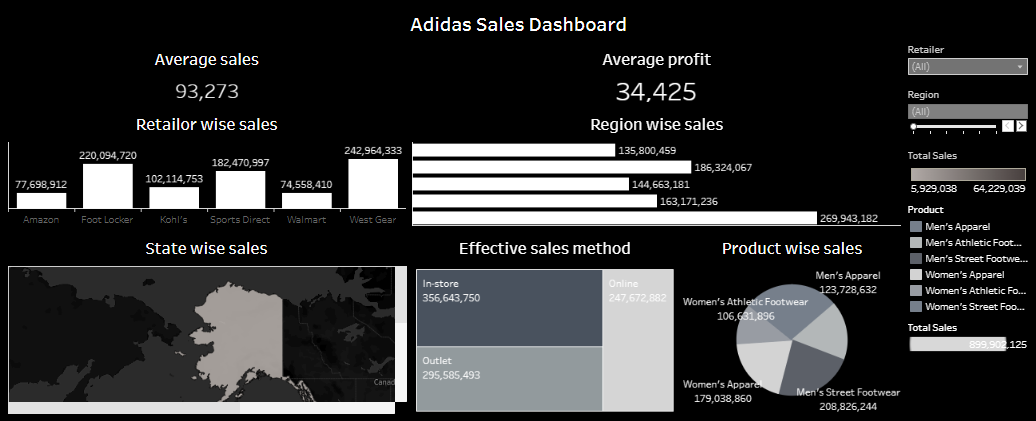

What the dashboard file says about the page in this screenshot:
{"tool":"tableau","page":{"name":"Dashboard 1","canvas":[1000,1000],"units":"permille","ordinal":0},"visuals":[{"type":"title","box":[7.1,16.3,985.8,83.7]},{"type":"worksheet","title":"Average sales","mark":"Automatic","box":[7.1,100,379.7,152.6]},{"type":"worksheet","title":"Average profit","mark":"Automatic","box":[386.8,100,464,152.6]},{"type":"filter","title":"State wise sales","param":"[federated.0gyftah09ijxzo1g05q7n0omwkpl].[none:Retailer:nk]","box":[850.8,100,142.1,106.1]},{"type":"filter","title":"State wise sales","param":"[federated.0gyftah09ijxzo1g05q7n0omwkpl].[none:Region:nk]","box":[850.8,206.1,142.1,153.1]},{"type":"worksheet","title":"Retailor wise sales","mark":"Automatic","rows":["Total Sales"],"cols":["Retailer"],"box":[7.1,252.6,379.7,289.2]},{"type":"worksheet","title":"Region wise sales","mark":"Automatic","rows":["Region"],"cols":["Total Sales"],"box":[386.8,252.6,464,289.2]},{"type":"legend","title":"State wise sales","param":"[federated.0gyftah09ijxzo1g05q7n0omwkpl].[sum:Total Sales:qk]","box":[850.8,359.2,142.1,132.7]},{"type":"legend","title":"Product wise sales","param":"[federated.0gyftah09ijxzo1g05q7n0omwkpl].[none:Product:nk]","box":[850.8,491.9,142.1,298]},{"type":"worksheet","title":"State wise sales","mark":"Automatic","box":[7.1,541.7,380,441.9]},{"type":"worksheet","title":"Effective sales method","mark":"Automatic","box":[387.1,541.7,252.7,441.9]},{"type":"worksheet","title":"Product wise sales","mark":"Pie","box":[639.8,541.7,211,441.9]},{"type":"legend","title":"Product wise sales","param":"[federated.0gyftah09ijxzo1g05q7n0omwkpl].[sum:Total Sales:qk]","box":[850.8,789.8,142.1,93.9]}]}

Visuals, with their boxes on the dashboard's canvas, which has no fixed pixel size, in thousandths of its width and height (x1, y1, x2, y2). These are canvas units, not pixel positions in the 1036x421 screenshot, which may show the page scaled, cropped or inside an application window:
title: 7/16/993/100
"Average sales" worksheet: 7/100/387/253
"Average profit" worksheet: 387/100/851/253
"State wise sales" filter: 851/100/993/206
"State wise sales" filter: 851/206/993/359
"Retailor wise sales" worksheet: 7/253/387/542
"Region wise sales" worksheet: 387/253/851/542
"State wise sales" legend: 851/359/993/492
"Product wise sales" legend: 851/492/993/790
"State wise sales" worksheet: 7/542/387/984
"Effective sales method" worksheet: 387/542/640/984
"Product wise sales" worksheet (Pie marks): 640/542/851/984
"Product wise sales" legend: 851/790/993/884
